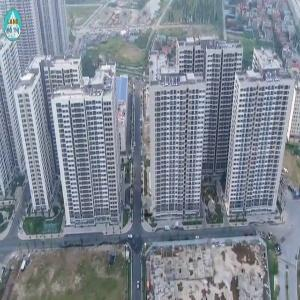drone: (114, 181, 181, 248)
